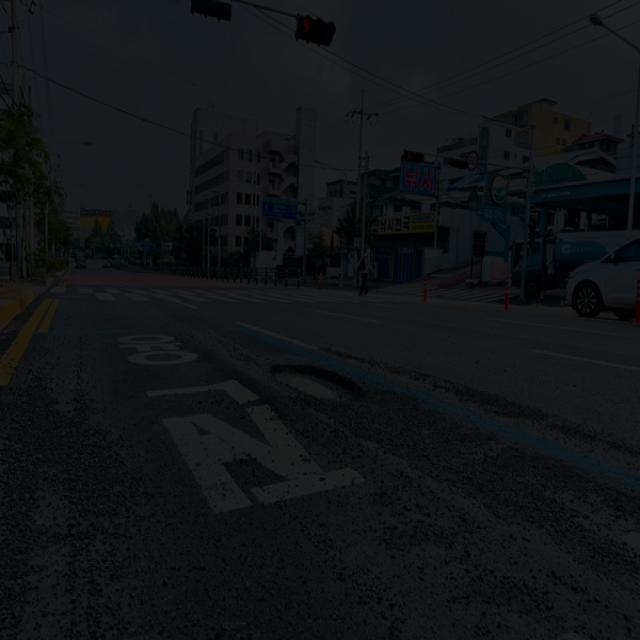pothole: (263, 335, 375, 419)
